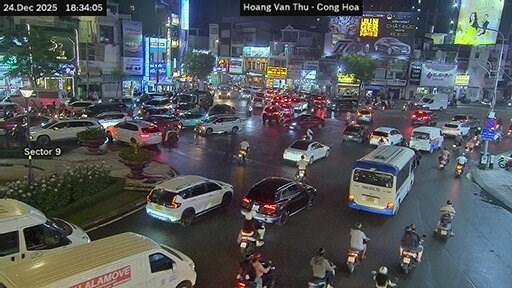motorbike: (237, 223, 265, 256), (434, 212, 451, 238), (400, 248, 416, 273), (234, 270, 256, 287), (346, 248, 361, 271), (261, 261, 274, 287), (7, 124, 25, 138), (163, 130, 178, 144), (307, 279, 332, 287), (498, 154, 511, 167), (237, 148, 246, 163), (471, 135, 480, 148), (454, 162, 463, 175), (295, 169, 304, 181), (451, 143, 460, 153), (402, 100, 412, 109), (459, 95, 470, 103), (438, 157, 445, 169), (345, 115, 352, 125), (246, 104, 252, 115), (300, 134, 310, 139), (332, 265, 335, 275), (506, 130, 511, 135), (507, 126, 511, 130)
